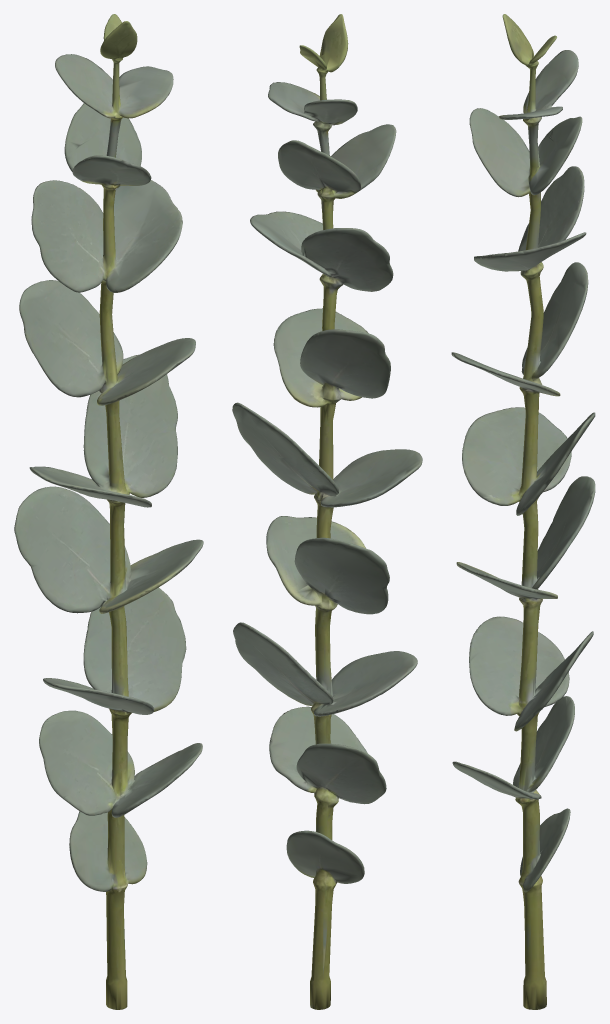
File: fl-green-eucalyptus-silver.glb
3 renders of one model, left to right at view 1: azimuth 30°, elevation 25°; view 2: azimuth 150°, elevation 25°; view 3: azimuth 270°, elevation 25°, orthographic.
Parts seen in each view (by area): view 1: node_0; view 2: node_0; view 3: node_0.
Part boxes in pixels (x1,y1,x2,y2): node_0: [14, 14, 203, 1009]; node_0: [232, 14, 422, 1009]; node_0: [451, 14, 595, 1009].
Size of the model in its own units: 0.2061 by 1.2 by 0.1582.
1 material, 1 textured.
